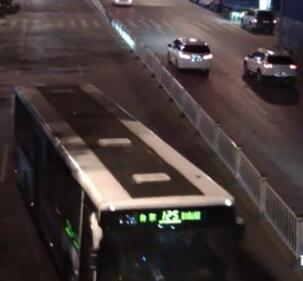bus: (11, 79, 247, 278)
car: (241, 46, 297, 84), (165, 36, 214, 74), (238, 8, 276, 35), (112, 0, 133, 7)
